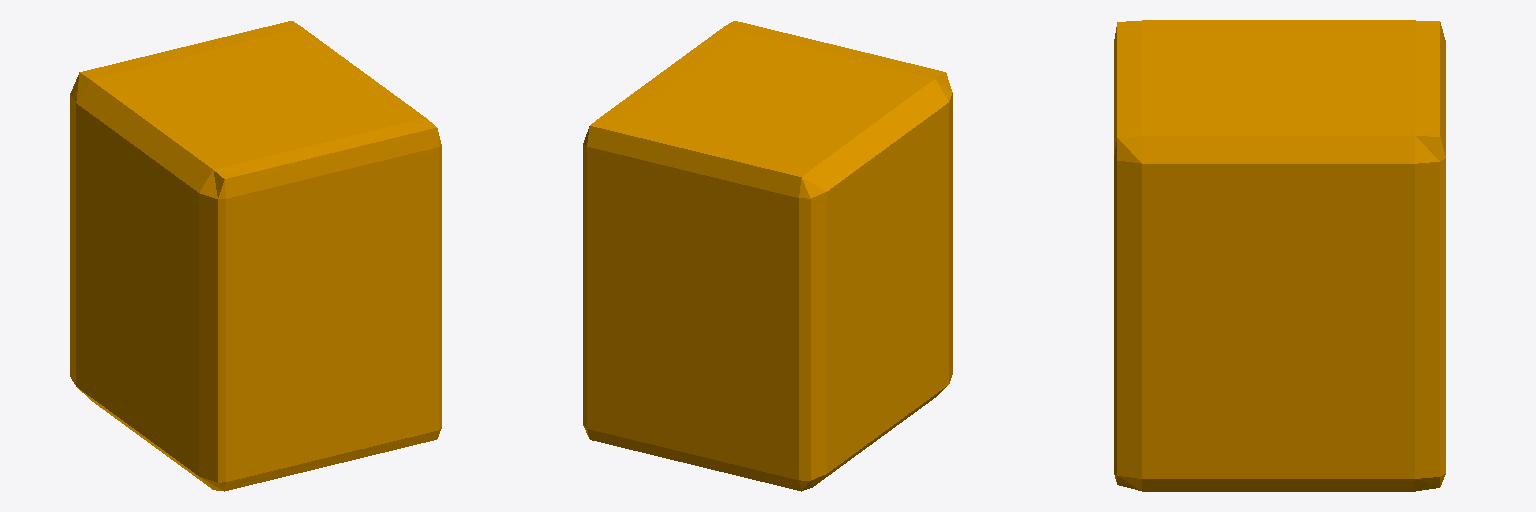
URDF robot description (cylinder_box_12):
<?xml version="1.0" encoding="utf-8"?>  <robot name="cylinder_box_12">   <link name="cylinder_box_12">     <visual>       <geometry>         <mesh filename="../meshes/box/box_12.stl" scale="1 1 1"/>       </geometry>     </visual>     <collision>       <geometry>         <mesh filename="../meshes/box/box_12.stl" scale="1 1 1"/>       </geometry>     </collision>     <inertial>        <origin         xyz="0 0 0"         rpy="0 0 0" />       <mass value="0.3202751772162227"/>       <origin rpy="0 0 0" xyz="0 0 0"/>       <inertia ixx="0.0002823831964010774" ixy="6.355690196668808e-09" ixz="-7.455347435603303e-08" iyy="0.00026328968500983276" iyz="8.705946712114739e-08" izz="0.00021581931471931922"/>     </inertial>   </link>  </robot>

--- What the picture shows (computed from the rendered views, not written in the file) ---
The picture shows the robot from 3 angles, left to right: view 1: azimuth 30°, elevation 25°; view 2: azimuth 150°, elevation 25°; view 3: azimuth 270°, elevation 25°; orthographic projection.
Robot: cylinder_box_12 — 1 links, 0 joints (none); root link cylinder_box_12; default pose: every joint at zero.
Visible links, largest first — view 1: cylinder_box_12; view 2: cylinder_box_12; view 3: cylinder_box_12.
Link boxes in pixels (x1,y1,x2,y2): cylinder_box_12: [70, 21, 441, 491]; cylinder_box_12: [583, 21, 952, 491]; cylinder_box_12: [1114, 20, 1445, 491].
Bounding box of the posed robot: 0.0614 × 0.0668 × 0.0793 m (x, y, z).
1 mesh visuals loaded from 1 distinct referenced files (1 binary STL).